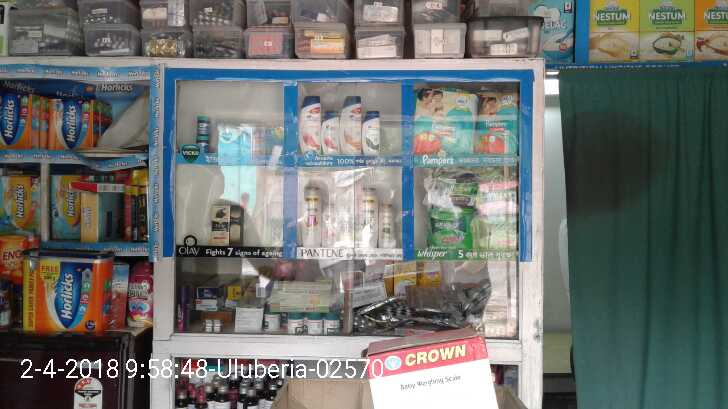vicks: (197, 115, 210, 152)
